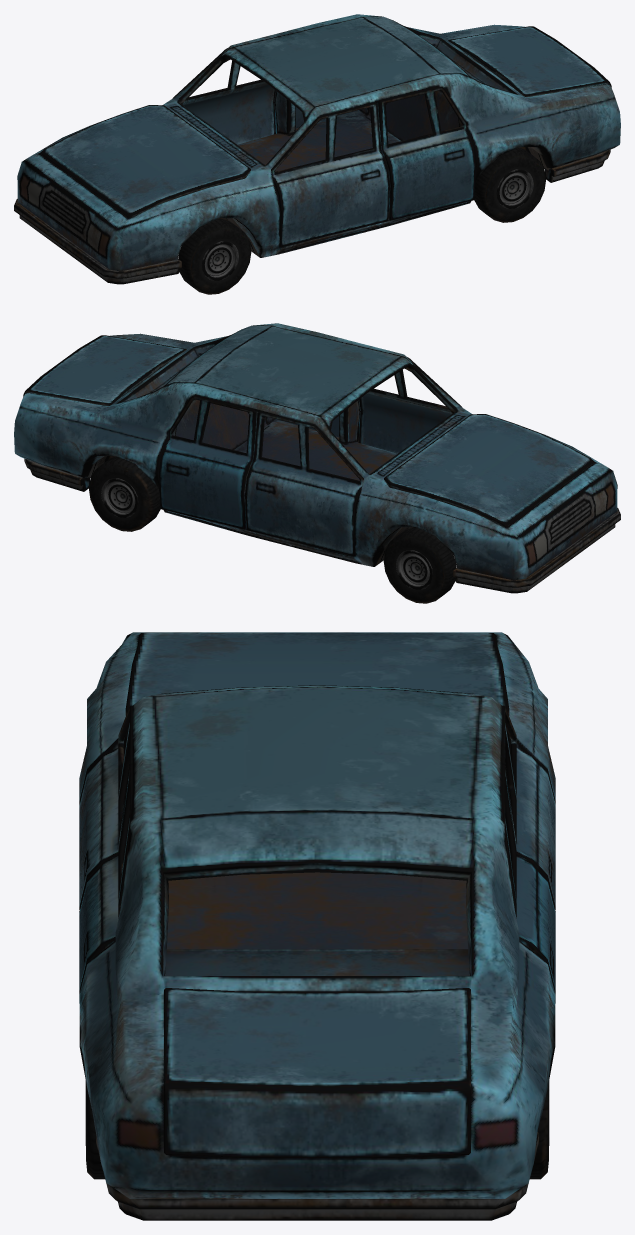
Rendered from junk_car_v1.fbx.
3 views of the same model, one above another, from view 1: azimuth 30°, elevation 25°; view 2: azimuth 150°, elevation 25°; view 3: azimuth 270°, elevation 25° (orthographic). The views are drawn at different scales.
Parts seen in each view (by area): view 1: junk_car_v1_chasis, junk_car_v1_hood, junk_car_v1_door_01, junk_car_v1_door_02, junk_car_v1_trunk, junk_car_v1_door_03, junk_car_v1_tire_03, junk_car_v1_tire_02, junk_car_v1_bumper_01, junk_car_v1_tire_barrel_03, junk_car_v1_tire_barrel_01, junk_car_v1_bumper_02; view 2: junk_car_v1_chasis, junk_car_v1_hood, junk_car_v1_door_03, junk_car_v1_door_04, junk_car_v1_trunk, junk_car_v1_door_01, junk_car_v1_tire_01, junk_car_v1_tire_04, junk_car_v1_bumper_01, junk_car_v1_tire_barrel_04, junk_car_v1_tire_barrel_02, junk_car_v1_bumper_02; view 3: junk_car_v1_chasis, junk_car_v1_trunk, junk_car_v1_hood, junk_car_v1_bumper_02, junk_car_v1_door_03, junk_car_v1_door_01, junk_car_v1_door_02, junk_car_v1_door_04, junk_car_v1_tire_04, junk_car_v1_tire_02.
Boxes of the visible parts, bbox=[...] form: junk_car_v1_chasis: bbox=[17, 14, 620, 271]; junk_car_v1_hood: bbox=[40, 105, 250, 217]; junk_car_v1_door_01: bbox=[271, 102, 389, 247]; junk_car_v1_door_02: bbox=[378, 86, 476, 220]; junk_car_v1_trunk: bbox=[448, 26, 611, 96]; junk_car_v1_door_03: bbox=[172, 48, 275, 144]; junk_car_v1_tire_03: bbox=[178, 218, 251, 294]; junk_car_v1_tire_02: bbox=[474, 147, 545, 222]; junk_car_v1_bumper_01: bbox=[14, 199, 181, 284]; junk_car_v1_tire_barrel_03: bbox=[496, 169, 533, 208]; junk_car_v1_tire_barrel_01: bbox=[201, 241, 238, 280]; junk_car_v1_bumper_02: bbox=[545, 149, 610, 182]; junk_car_v1_chasis: bbox=[14, 323, 617, 580]; junk_car_v1_hood: bbox=[384, 414, 594, 526]; junk_car_v1_door_03: bbox=[245, 411, 363, 556]; junk_car_v1_door_04: bbox=[158, 395, 256, 529]; junk_car_v1_trunk: bbox=[23, 335, 186, 405]; junk_car_v1_door_01: bbox=[359, 357, 462, 453]; junk_car_v1_tire_01: bbox=[383, 527, 456, 603]; junk_car_v1_tire_04: bbox=[89, 456, 160, 531]; junk_car_v1_bumper_01: bbox=[453, 508, 620, 593]; junk_car_v1_tire_barrel_04: bbox=[101, 478, 138, 517]; junk_car_v1_tire_barrel_02: bbox=[396, 550, 433, 589]; junk_car_v1_bumper_02: bbox=[24, 458, 89, 491]; junk_car_v1_chasis: bbox=[79, 632, 555, 1198]; junk_car_v1_trunk: bbox=[164, 988, 470, 1157]; junk_car_v1_hood: bbox=[125, 633, 509, 715]; junk_car_v1_bumper_02: bbox=[96, 1132, 538, 1220]; junk_car_v1_door_03: bbox=[502, 705, 555, 909]; junk_car_v1_door_01: bbox=[79, 705, 132, 909]; junk_car_v1_door_02: bbox=[79, 764, 132, 992]; junk_car_v1_door_04: bbox=[502, 764, 555, 992]; junk_car_v1_tire_04: bbox=[530, 1082, 548, 1179]; junk_car_v1_tire_02: bbox=[86, 1082, 104, 1179].
Size of the model in its own units: 26.72 by 7.52 by 10.56.
Materials: 1 (1 with a texture image).
